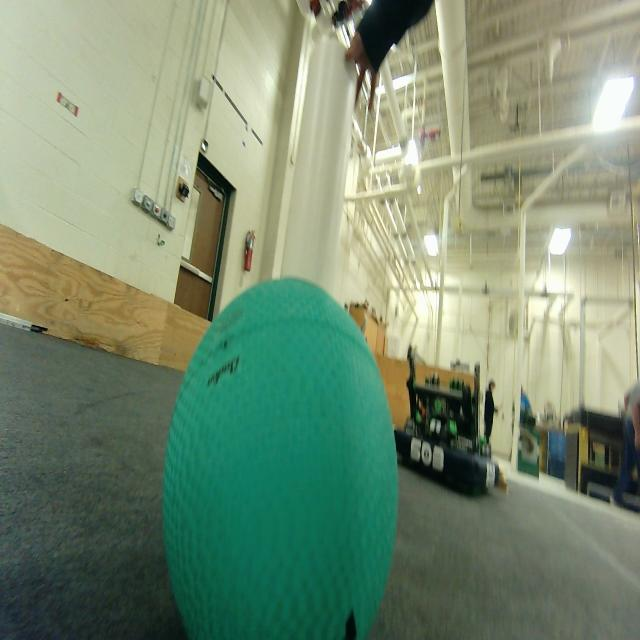algae: (156, 269, 406, 640)
